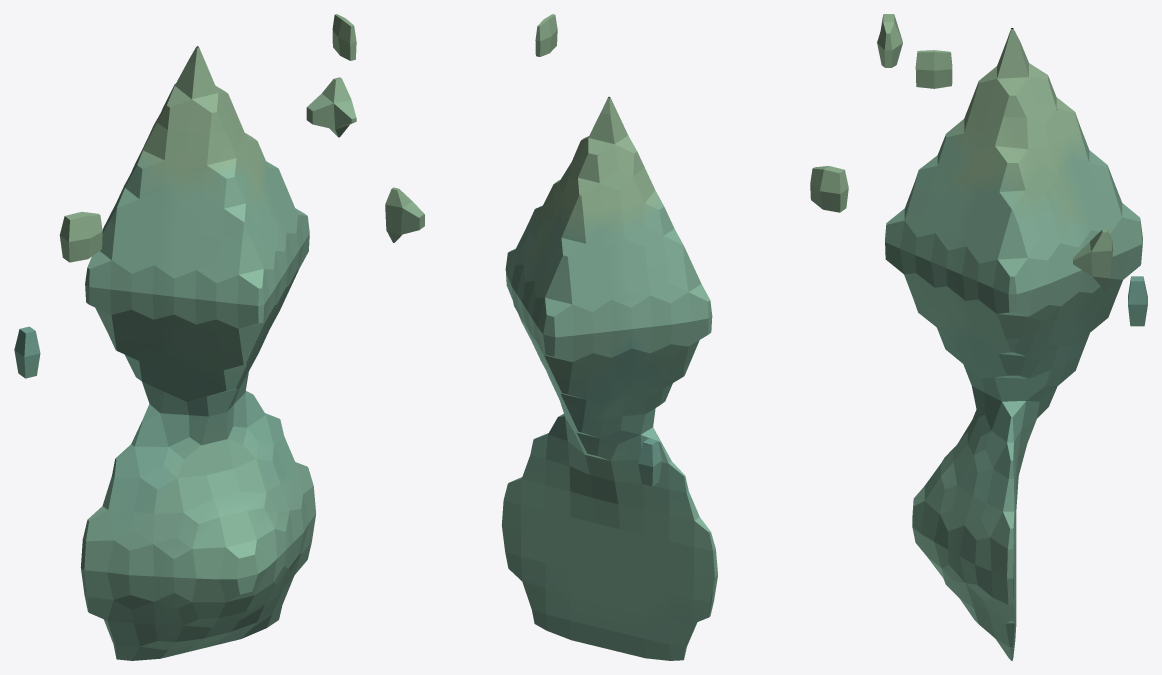
File: waterSpiritSummon.glb
The picture shows the model from 3 angles, left to right: view 1: azimuth 30°, elevation 25°; view 2: azimuth 150°, elevation 25°; view 3: azimuth 270°, elevation 25°; orthographic projection. The views are drawn at different scales.
Visible parts, largest first — view 1: geometry_0; view 2: geometry_0; view 3: geometry_0.
Boxes of the visible parts, x1,y1,x2,y2 form: geometry_0: (14, 14, 356, 660); geometry_0: (385, 14, 848, 660); geometry_0: (877, 14, 1147, 660).
Size of the model in its own units: 0.6023 by 0.9325 by 0.3635.
Materials: 1 (1 with a texture image).
